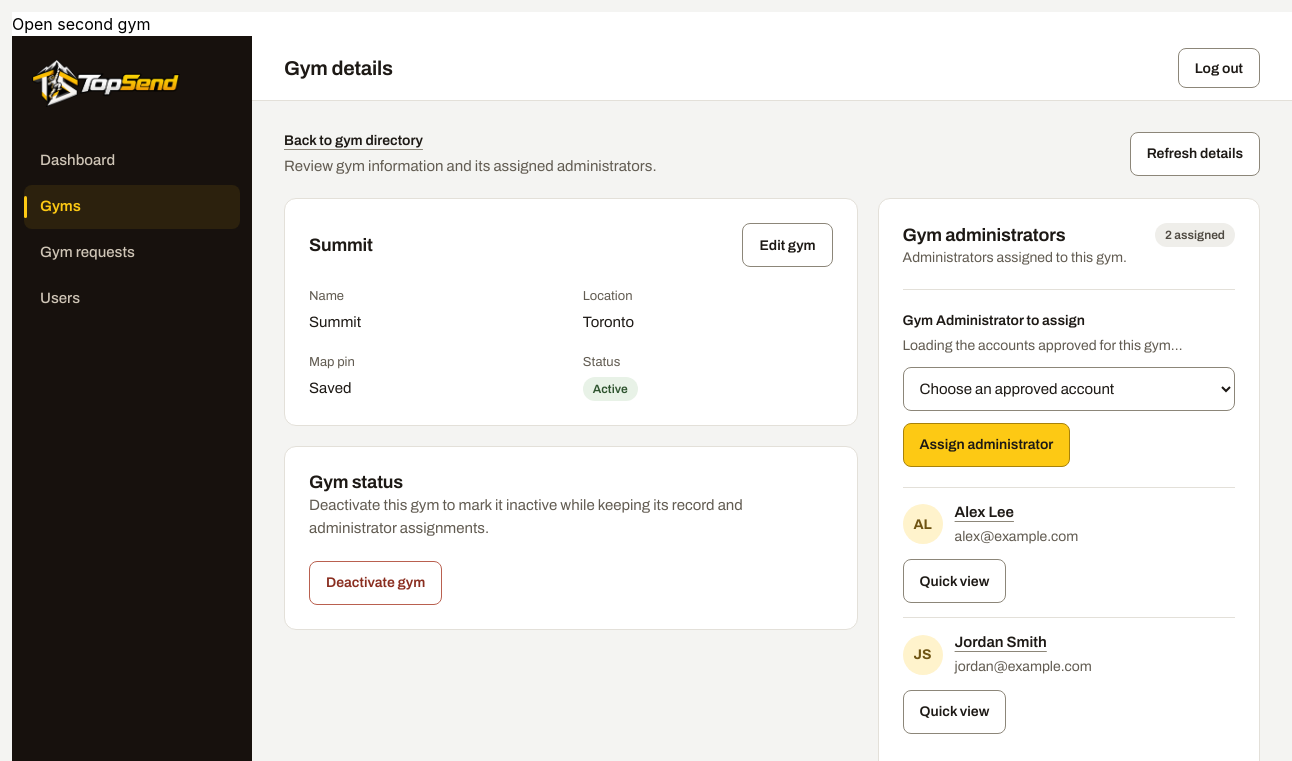
Test: US-005 #30/#31 Gym Details › edits the location as plain text without a Google Maps key, keeping the saved pin
Click the button "Edit gym" at (788, 245), box x1=742 y1=223 x2=833 y2=267
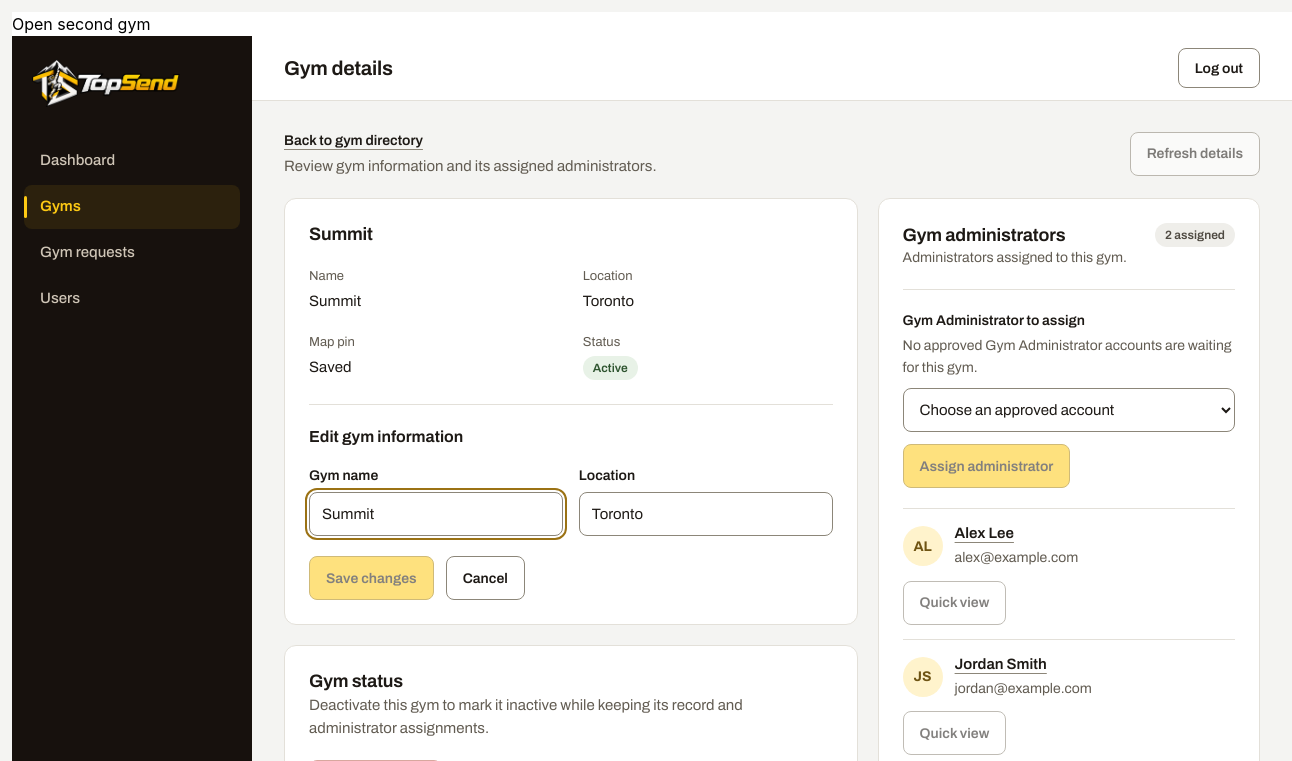
Replace the text in the field labelled "Gym name" with "New Summit" at (436, 514), box x1=309 y1=492 x2=563 y2=536
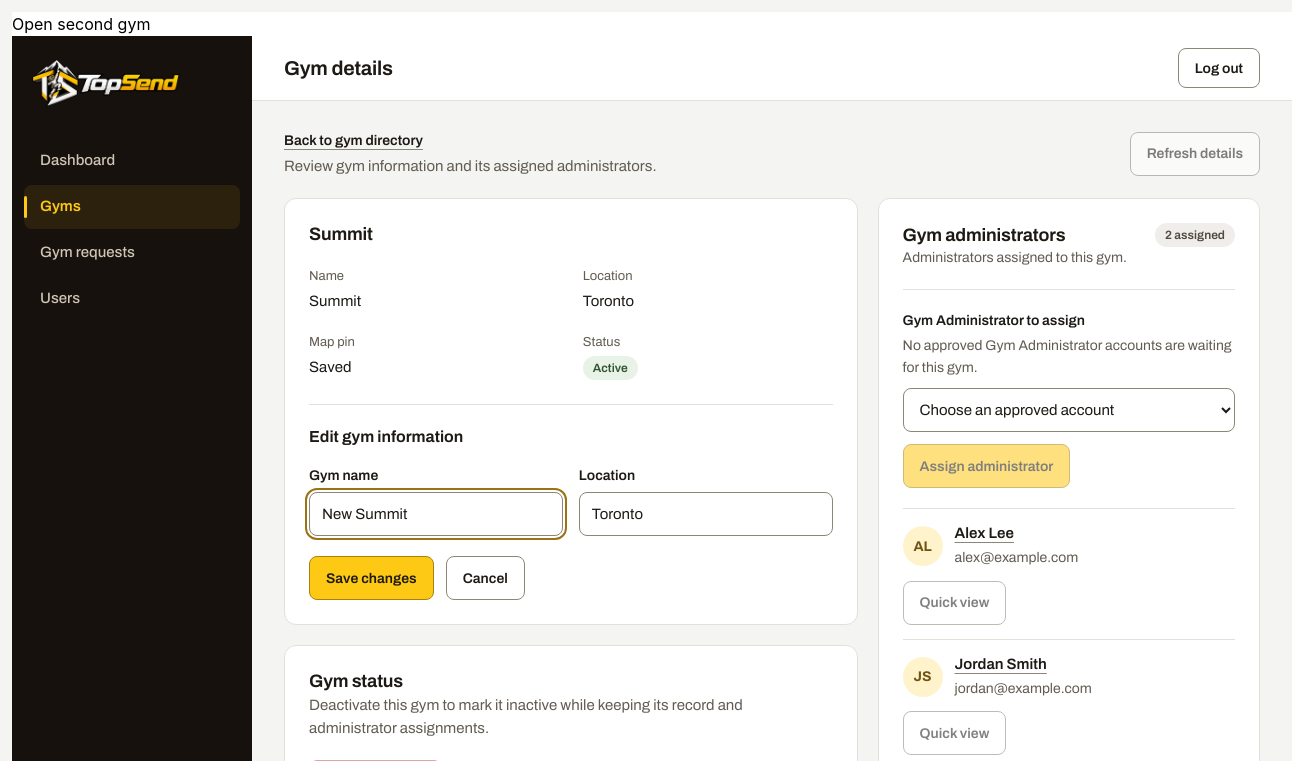
Replace the text in the field labelled "Location" with "Downtown Toronto" at (706, 514), box x1=579 y1=492 x2=833 y2=536
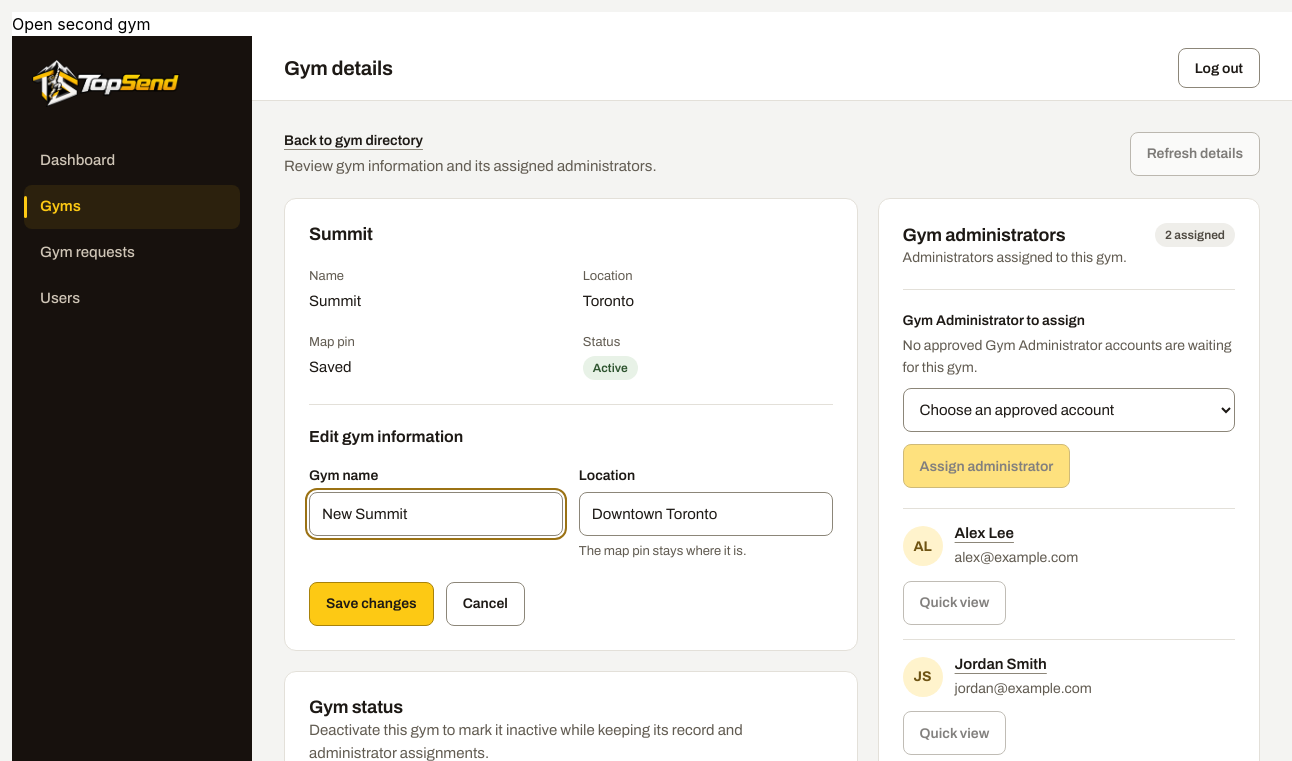
Expected: the text "The map pin stays where it is." is shown, x1=579 y1=544 x2=746 y2=558
Click the button "Save changes" at (371, 604), box x1=309 y1=582 x2=434 y2=626
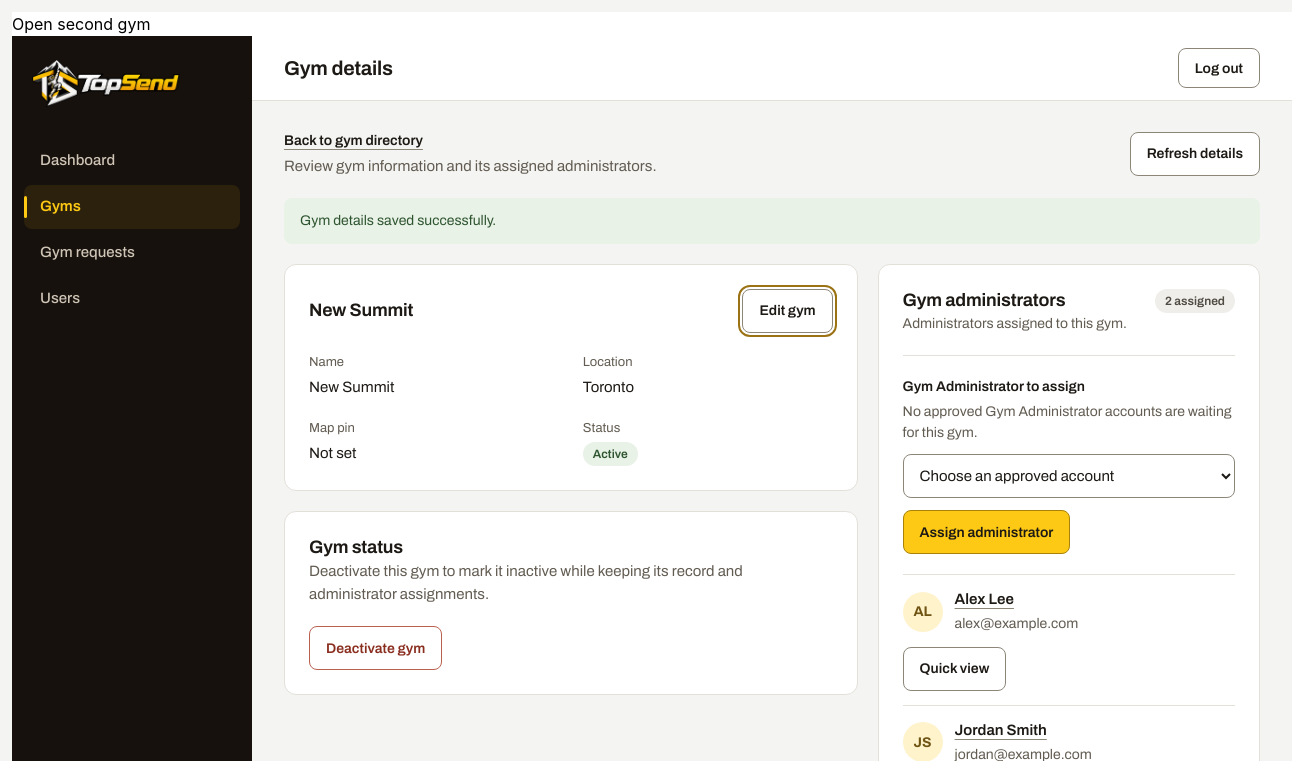
Expected: the text "Gym details saved successfully." is shown, x1=284 y1=198 x2=1260 y2=244
